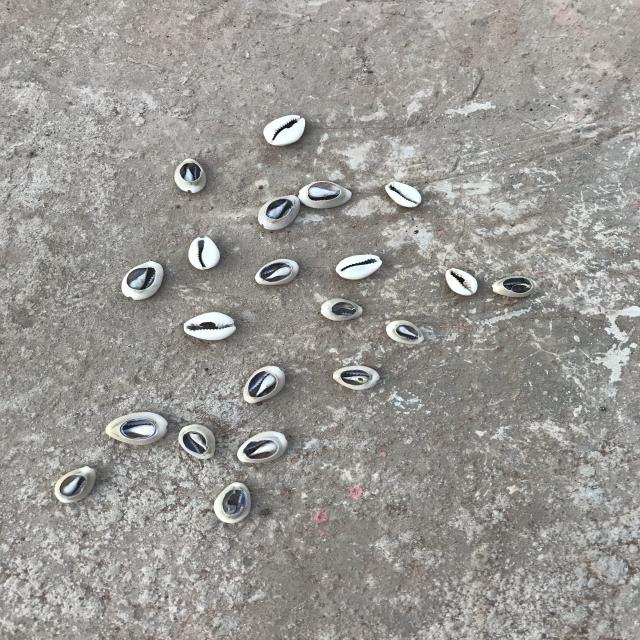facedown: (103, 410, 172, 448), (235, 428, 292, 466), (117, 261, 168, 302), (239, 366, 292, 405), (211, 479, 255, 525), (50, 465, 100, 505), (256, 193, 300, 232), (252, 254, 302, 287), (298, 180, 353, 210), (331, 363, 382, 393), (177, 422, 216, 461), (172, 157, 210, 195), (318, 296, 368, 323), (385, 319, 427, 347), (490, 276, 540, 299)
faceup: (180, 310, 240, 344), (260, 112, 312, 148), (334, 252, 386, 282), (186, 234, 222, 274), (382, 177, 424, 209), (442, 266, 480, 298)
